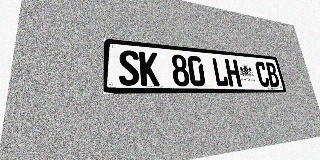0: (187, 55, 206, 86)
8: (171, 54, 190, 86)
B: (265, 62, 280, 87)
C: (254, 61, 270, 87)
H: (224, 59, 242, 87)
K: (139, 51, 160, 86)
L: (211, 57, 229, 86)
S: (118, 49, 140, 86)
